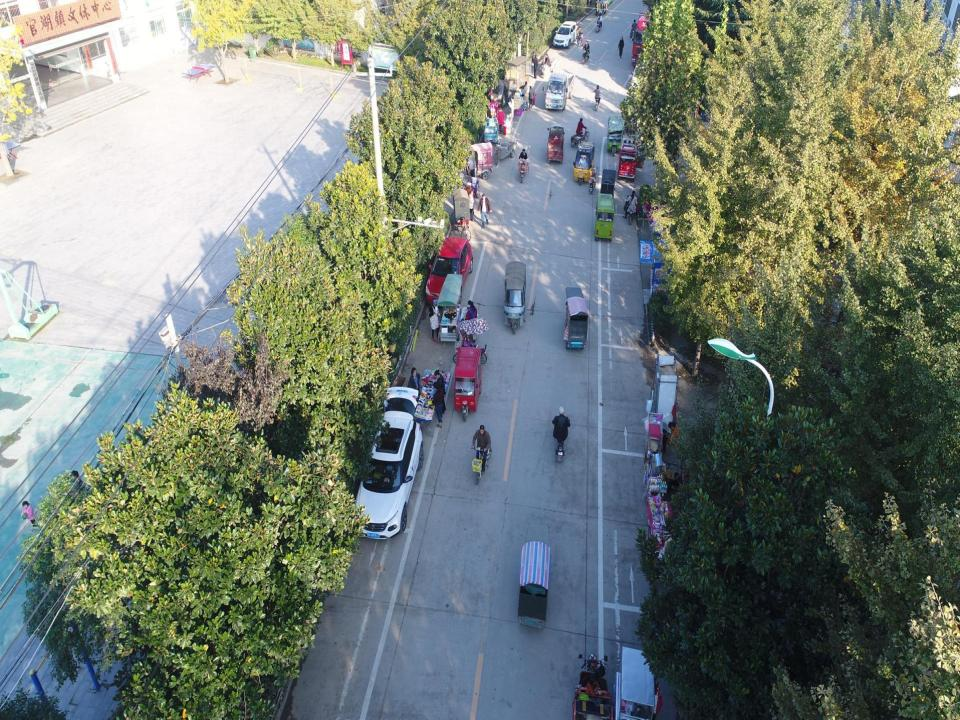car: (347, 386, 424, 543), (425, 230, 474, 308), (551, 19, 578, 50)
truck: (631, 0, 688, 81), (541, 69, 576, 111), (487, 71, 518, 109)
